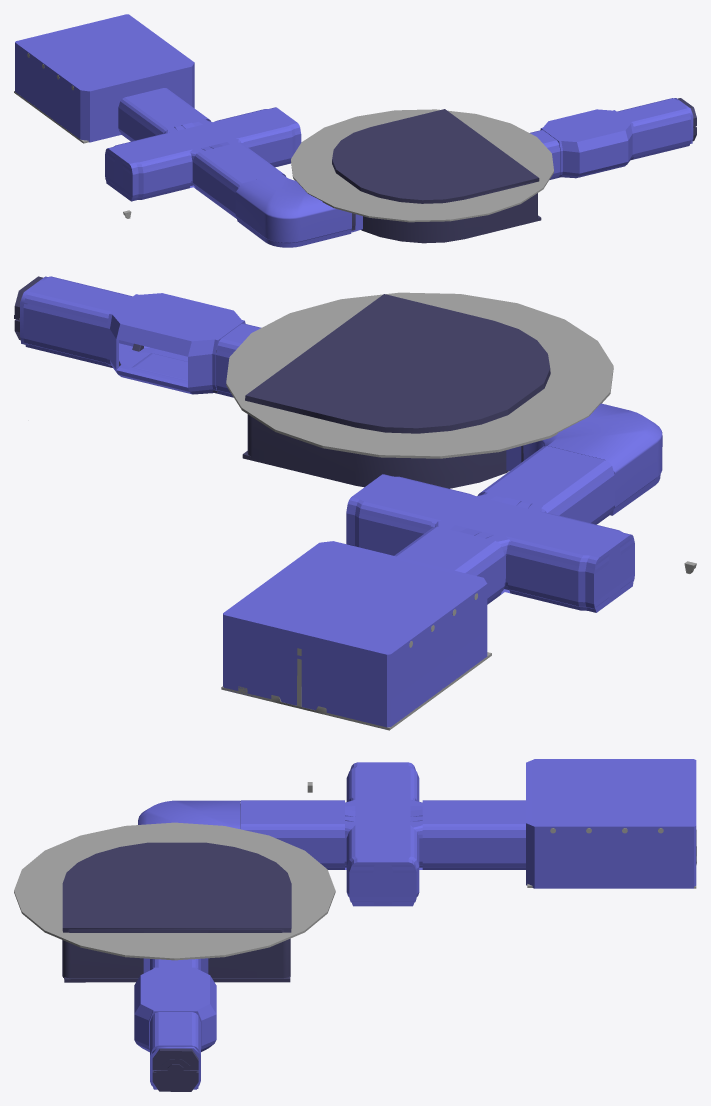
Rendered from Mesh_Game_lowpoly_rooms.fbx.
The picture shows the model from 3 angles, top to bottom: view 1: azimuth 30°, elevation 25°; view 2: azimuth 150°, elevation 25°; view 3: azimuth 270°, elevation 25°; orthographic projection. The views are drawn at different scales.
Visible parts, largest first — view 1: storage_box1, pCube99, polySurface265, polySurface382; view 2: storage_box1, polySurface265, pCube99, polySurface382; view 3: storage_box1, pCube99, polySurface265, polySurface382.
Boxes of the visible parts, box(x1,y1,x2,y2) form: storage_box1: box(291, 109, 553, 243); pCube99: box(105, 88, 351, 247); polySurface265: box(14, 14, 194, 143); polySurface382: box(530, 98, 696, 179); storage_box1: box(226, 292, 613, 488); polySurface265: box(221, 541, 491, 730); pCube99: box(346, 403, 662, 612); polySurface382: box(14, 276, 261, 397); storage_box1: box(14, 822, 335, 982); pCube99: box(138, 762, 525, 906); polySurface265: box(526, 759, 696, 888); polySurface382: box(134, 958, 216, 1091).
Bounding box in the file's own units: 5153 × 517 × 4922.
